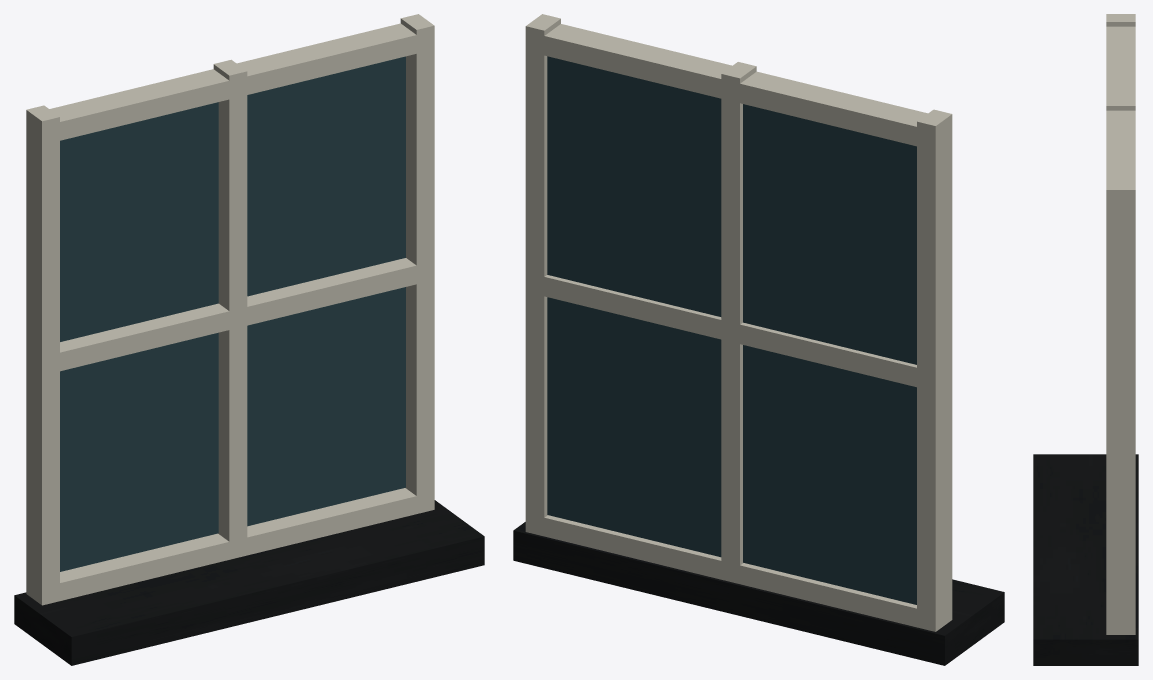
Rendered from window-exterior.glb.
3 views of the same model, side by side, from view 1: azimuth 30°, elevation 25°; view 2: azimuth 150°, elevation 25°; view 3: azimuth 270°, elevation 25° (orthographic). The views are drawn at different scales.
Parts seen in each view (by area): view 1: Glass, Sill, Frame, Frame.002, Frame.001, Frame.005, Frame.004, Frame.003; view 2: Glass, Frame, Sill, Frame.005, Frame.001, Frame.002, Frame.004, Frame.003; view 3: Sill, Frame.001, Frame.005, Frame, Frame.002.
Part boxes in pixels (<box>): Glass: <box>60,56,405,571</box>; Sill: <box>14,500,484,665</box>; Frame: <box>26,105,59,605</box>; Frame.002: <box>213,59,247,559</box>; Frame.001: <box>400,14,434,513</box>; Frame.005: <box>43,23,433,143</box>; Frame.004: <box>43,258,433,375</box>; Frame.003: <box>44,488,433,604</box>; Glass: <box>547,56,916,604</box>; Frame: <box>917,109,952,631</box>; Sill: <box>513,522,1004,665</box>; Frame.005: <box>526,24,927,146</box>; Frame.001: <box>525,14,560,536</box>; Frame.002: <box>721,62,756,583</box>; Frame.004: <box>526,272,932,387</box>; Frame.003: <box>526,515,934,631</box>; Sill: <box>1033,454,1138,665</box>; Frame.001: <box>1106,182,1135,634</box>; Frame.005: <box>1106,26,1135,181</box>; Frame: <box>1106,14,1135,26</box>; Frame.002: <box>1106,98,1135,110</box>.
Size of the model in its own units: 1.5 by 1.78 by 0.36.
3 materials, 1 textured.
